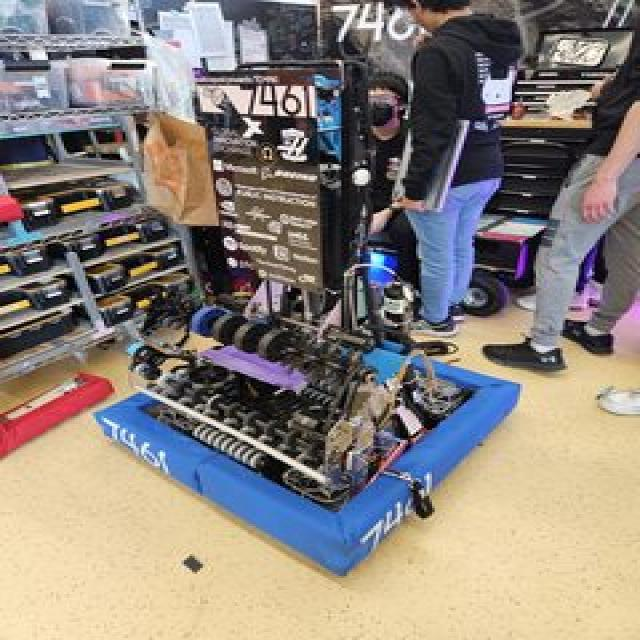robot: (81, 49, 532, 580)
